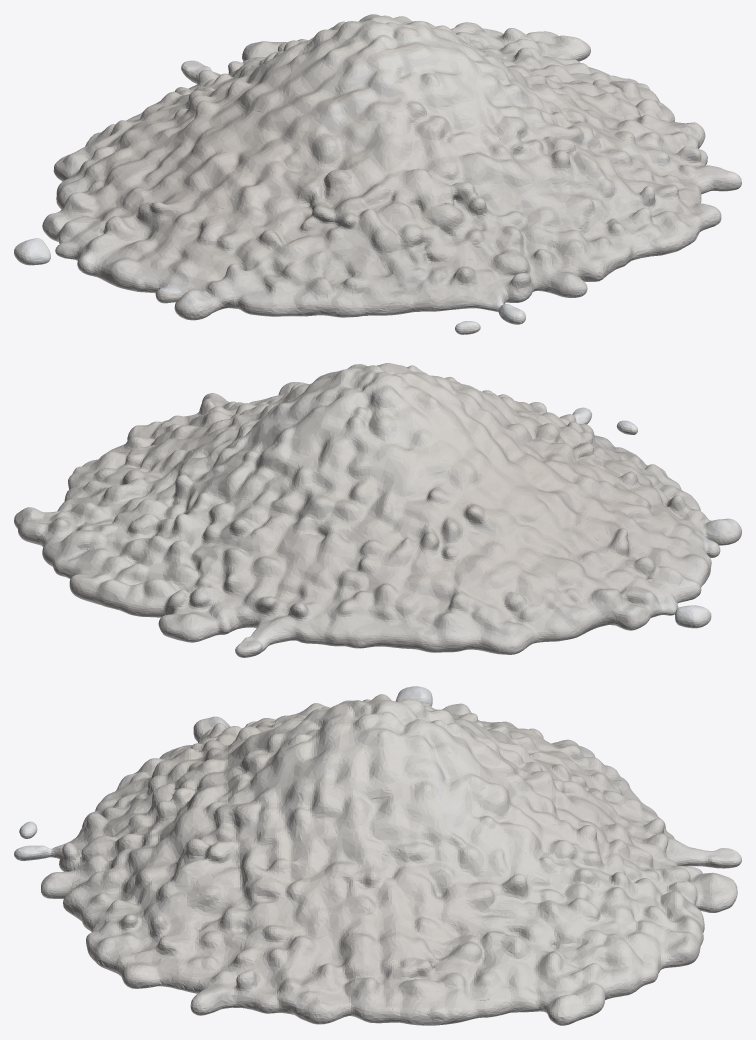
The picture shows the model from 3 angles, top to bottom: view 1: azimuth 30°, elevation 25°; view 2: azimuth 150°, elevation 25°; view 3: azimuth 270°, elevation 25°; orthographic projection. The views are drawn at different scales.
Parts seen in each view (by area): view 1: world; view 2: world; view 3: world.
Boxes of the visible parts, box(x1,y1,x2,y2) form: world: box(14, 14, 741, 334); world: box(14, 363, 741, 657); world: box(14, 686, 741, 1025).
Bounding box in the file's own units: 1.99 × 0.4923 × 1.86.
Materials: 1 (1 with a texture image).
